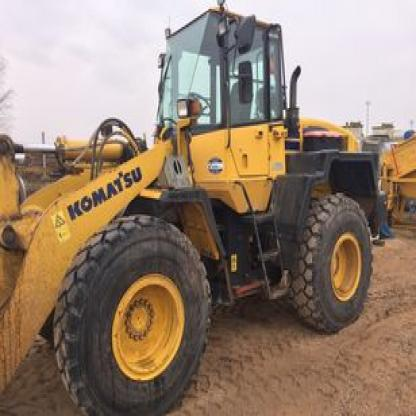bull_dozer/loader/grader: (3, 6, 414, 414)
